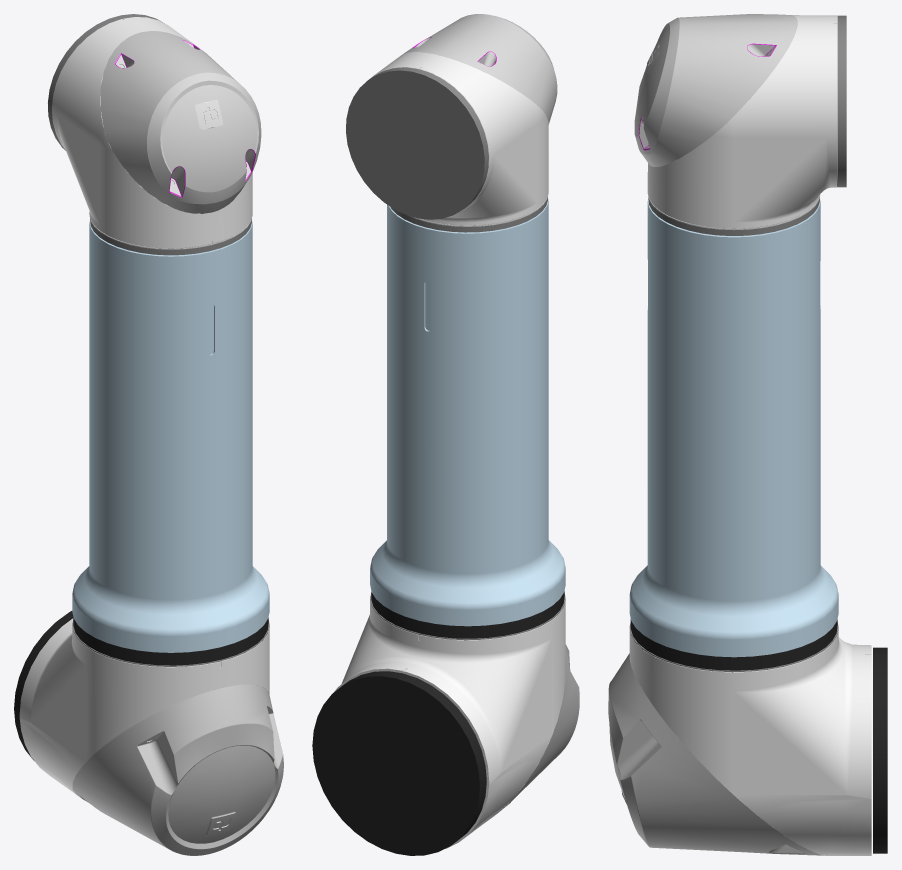
3 views of the same model, side by side, from view 1: azimuth 30°, elevation 25°; view 2: azimuth 150°, elevation 25°; view 3: azimuth 270°, elevation 25° (orthographic). The views are drawn at different scales.
Parts seen in each view (by area): view 1: link2; view 2: link2; view 3: link2.
Part boxes in pixels (x1=…): link2: x1=14, y1=14, x2=283, y2=855; link2: x1=312, y1=14, x2=579, y2=855; link2: x1=608, y1=14, x2=887, y2=855.
Bounding box in the file's own units: 0.1864 × 0.2457 × 0.7991.
